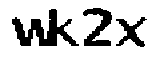2: (80, 4, 114, 50)
k: (48, 6, 79, 51)
w: (12, 15, 50, 52)
x: (115, 16, 146, 49)
